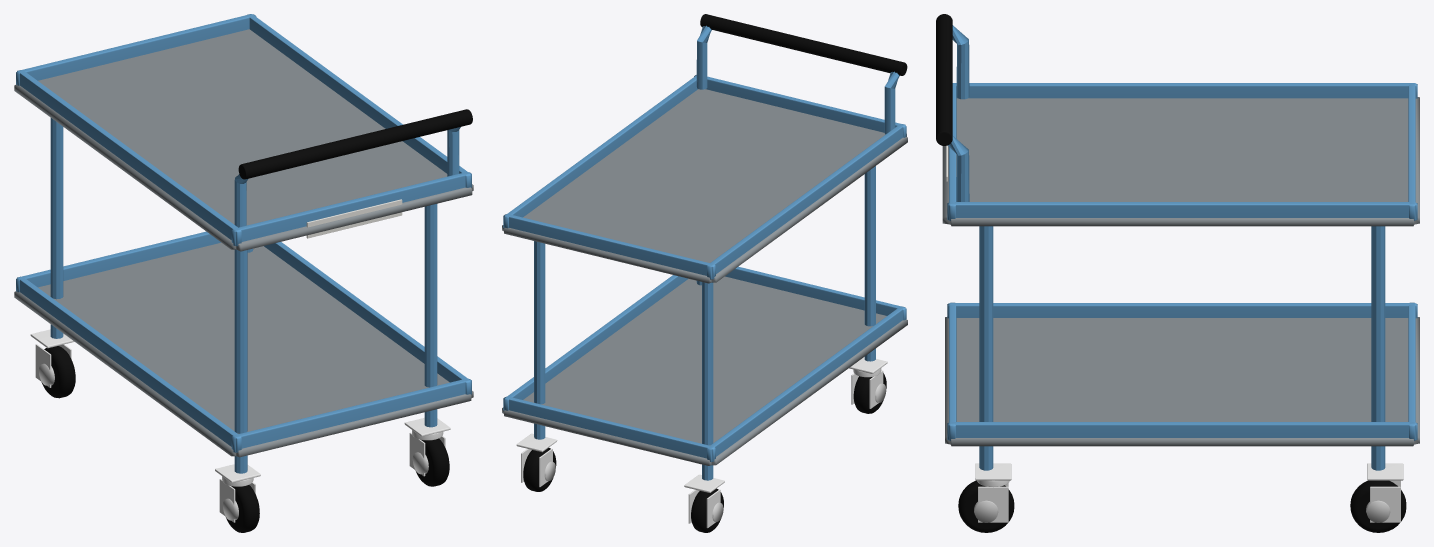
The model's file is industrial.yard.trolley_parts.glb.
The picture shows the model from 3 angles, left to right: view 1: azimuth 30°, elevation 25°; view 2: azimuth 150°, elevation 25°; view 3: azimuth 270°, elevation 25°; orthographic projection. The views are drawn at different scales.
Parts seen in each view (by area): view 1: main__paint_889, main__paint_69c, main__rubber, main__chrome_eee, main__paint_eee, main__galv_ccc; view 2: main__paint_889, main__paint_69c, main__rubber, main__chrome_eee, main__galv_ccc; view 3: main__paint_889, main__paint_69c, main__rubber, main__chrome_eee, main__galv_ccc.
Boxes of the visible parts, x1,y1,x2,y2 form: main__paint_889: [14, 29, 473, 457]; main__paint_69c: [16, 14, 471, 473]; main__rubber: [41, 109, 472, 532]; main__chrome_eee: [30, 329, 450, 522]; main__paint_eee: [306, 199, 402, 238]; main__galv_ccc: [39, 363, 448, 520]; main__paint_889: [502, 89, 907, 465]; main__paint_69c: [503, 25, 906, 480]; main__rubber: [523, 14, 907, 532]; main__chrome_eee: [516, 357, 887, 528]; main__galv_ccc: [544, 383, 886, 521]; main__paint_889: [942, 97, 1419, 446]; main__paint_69c: [947, 25, 1417, 470]; main__rubber: [936, 14, 1406, 532]; main__chrome_eee: [975, 463, 1403, 522]; main__galv_ccc: [974, 500, 1390, 522].
Bounding box in the file's own units: 0.638 × 0.968 × 1.04.
